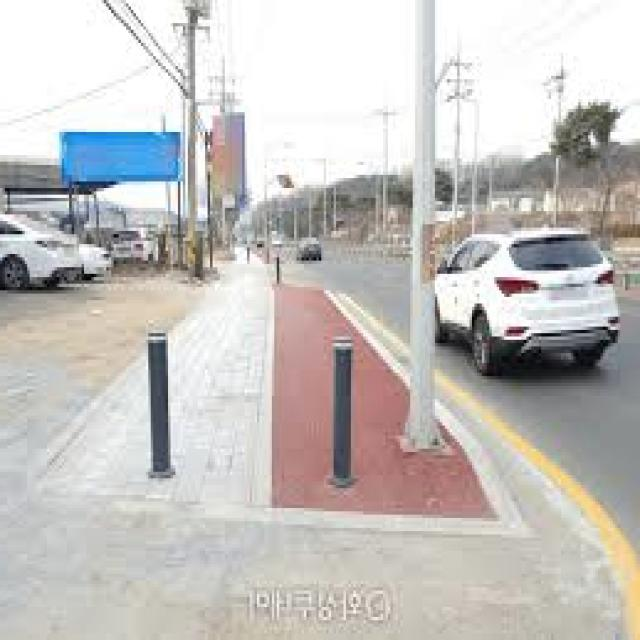bollard: (142, 318, 180, 485), (321, 324, 357, 492)
